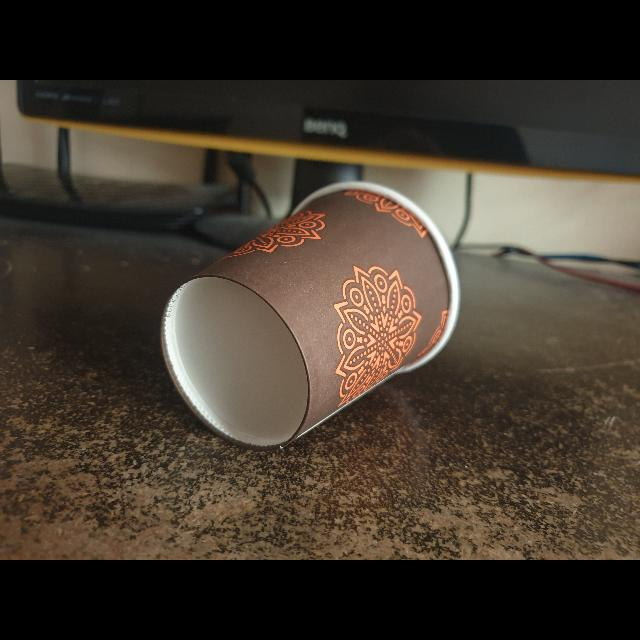trash: (157, 180, 465, 450)
